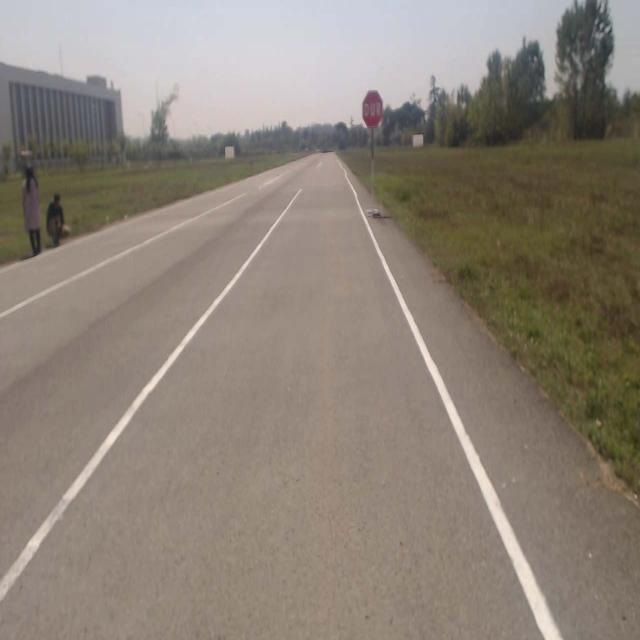dur: (363, 91, 382, 127)
